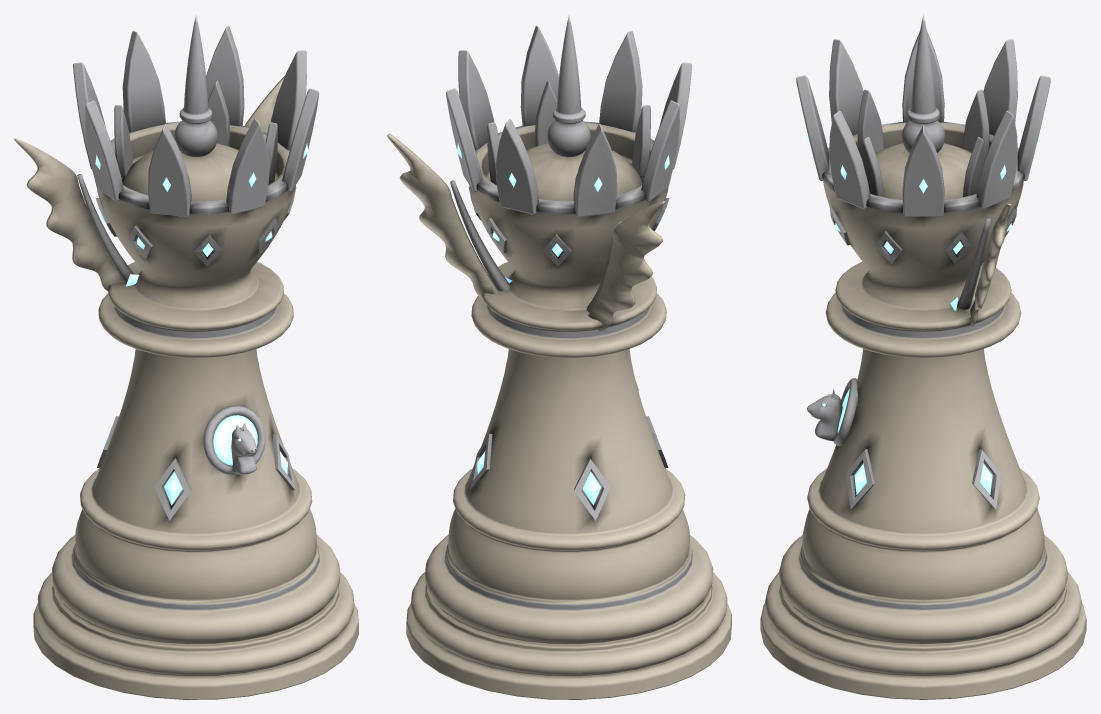
Rendered from maharani.glb.
3 renders of one model, left to right at view 1: azimuth 30°, elevation 25°; view 2: azimuth 150°, elevation 25°; view 3: azimuth 270°, elevation 25°, orthographic.
Visible parts, largest first — view 1: maharani; view 2: maharani; view 3: maharani.
Part boxes in pixels (x1,y1,x2,y2): maharani: (14, 14, 358, 699); maharani: (387, 14, 731, 699); maharani: (760, 14, 1086, 699).
Bounding box in the file's own units: 0.74 × 1.55 × 0.74.
